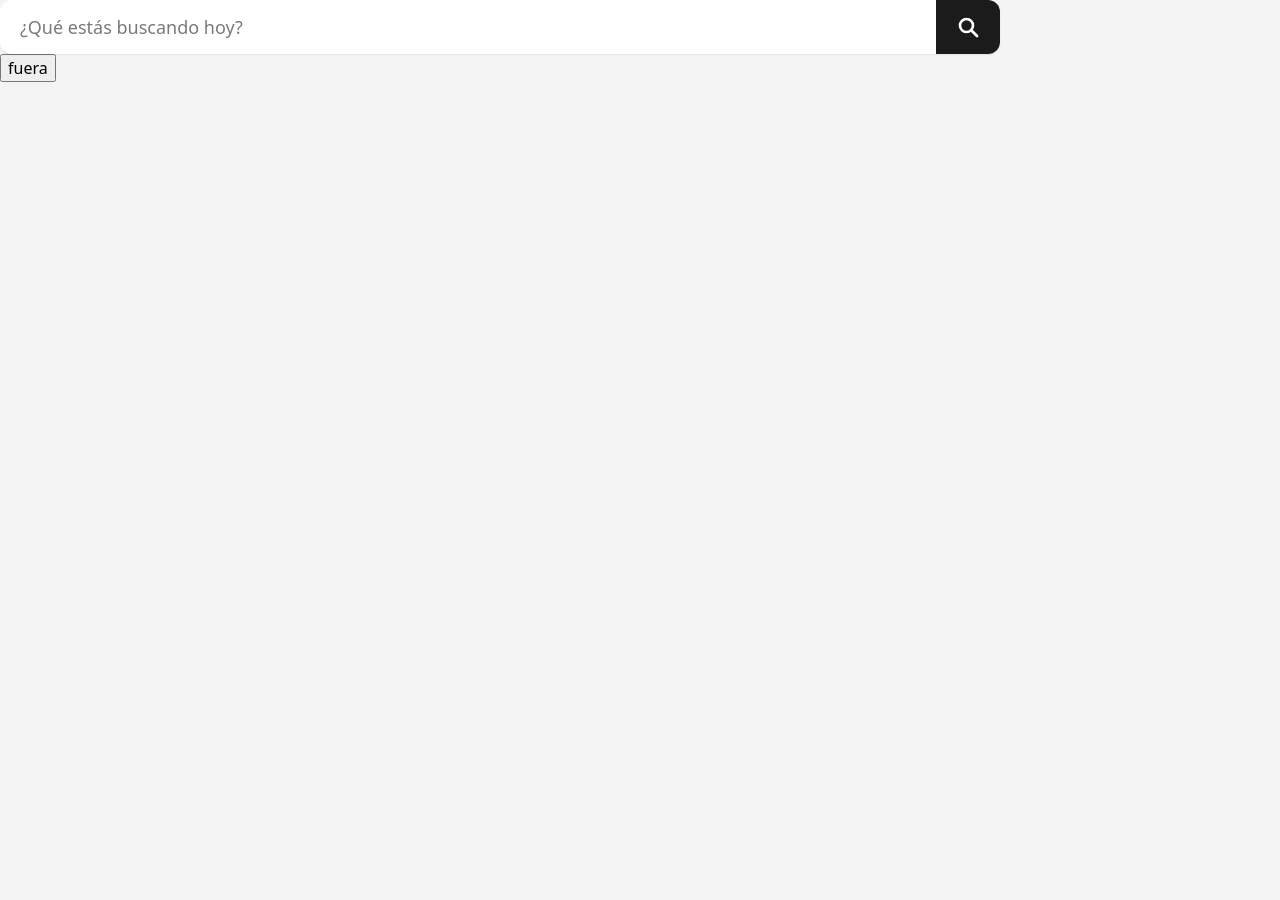
Test: SearchBox › si la query no nombra marca, usa la del primer resultado para el video
The image size is (1280, 900).
Type "phone" into the search field named "Buscar productos".
click(468, 27); type("phone")  # box [0,0,936,54]
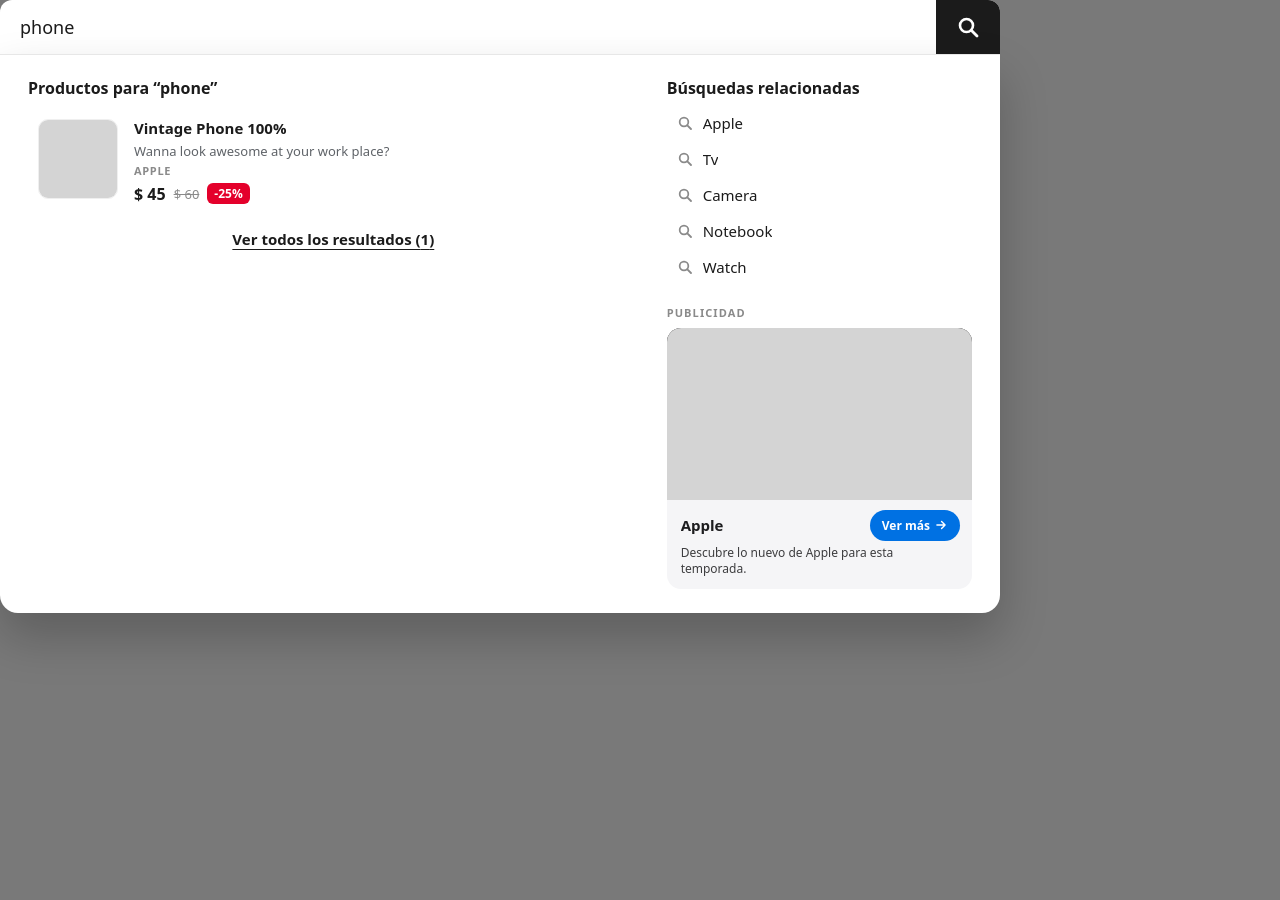
Expected: the text "Vintage Phone 100%" is shown, [134,118,286,138]
